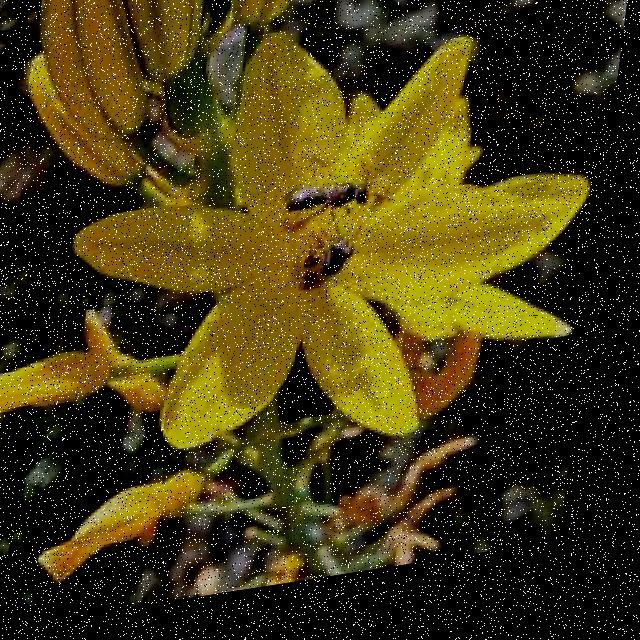Lasioglossum: (275, 171, 404, 236), (297, 237, 373, 317)
